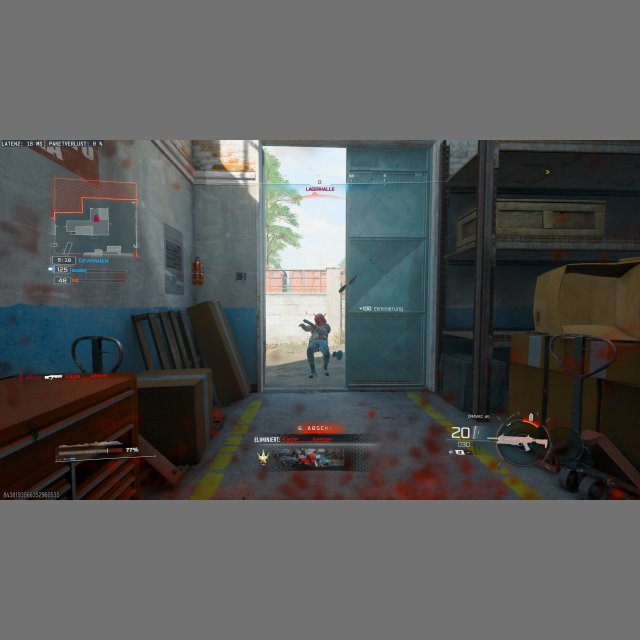head: (314, 312, 324, 323)
player: (300, 313, 332, 377)
